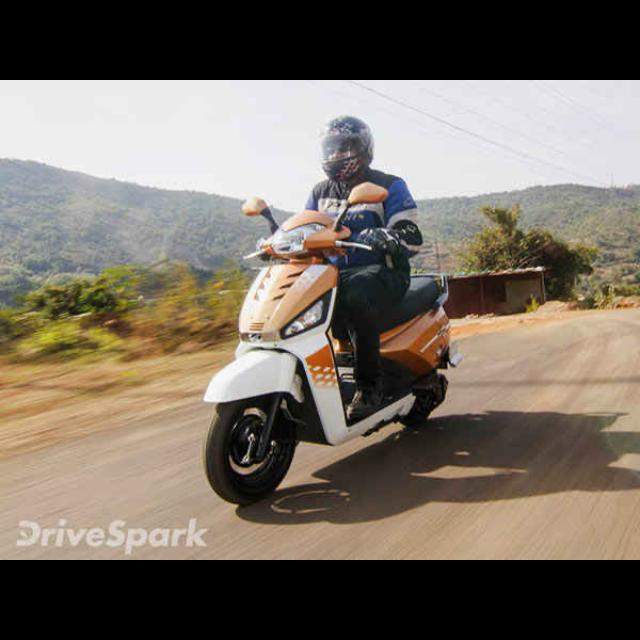With Helmet: (312, 110, 378, 188)
